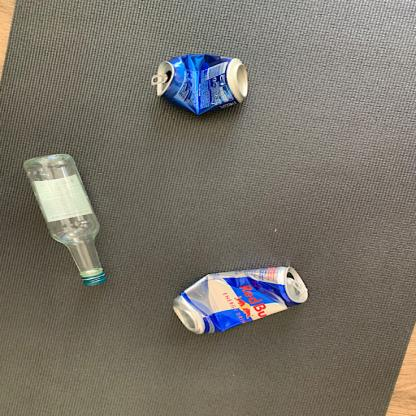trash: (23, 154, 110, 289), (173, 266, 315, 335), (152, 53, 250, 116)
